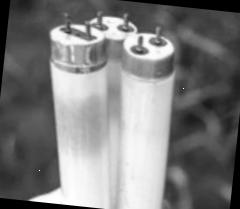lightbulb: (29, 3, 185, 209), (104, 21, 181, 209)
